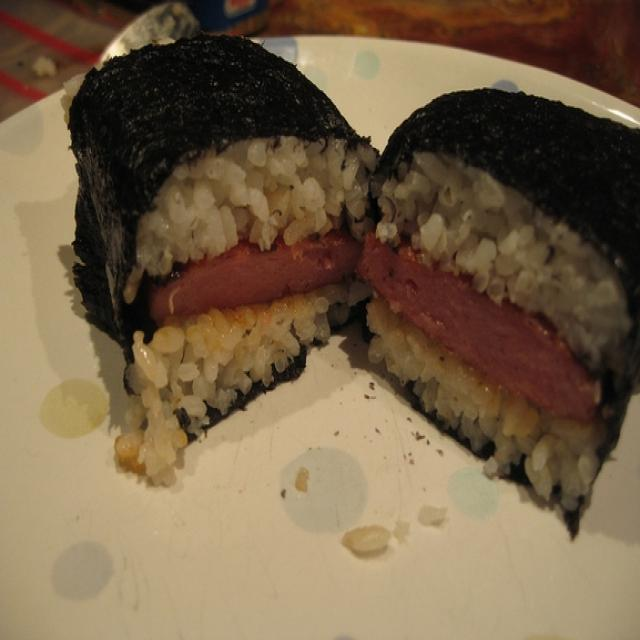寿司卷物: (25, 23, 636, 604)
